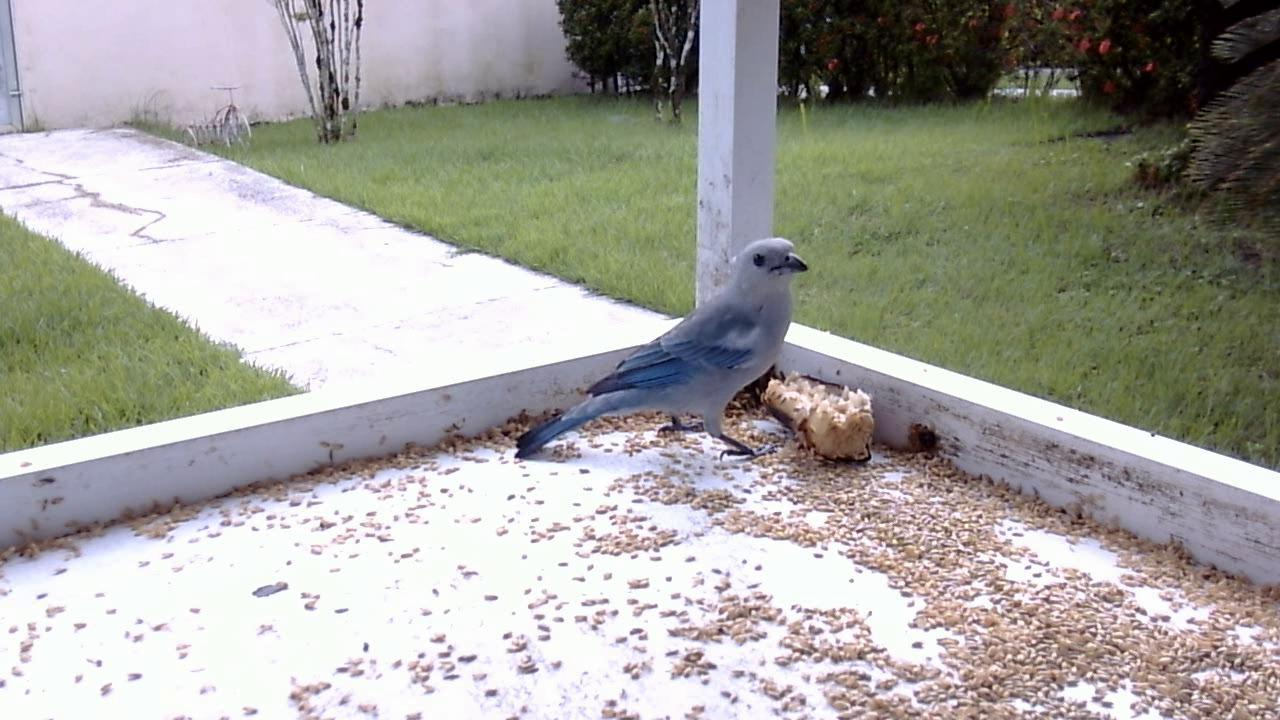sanhaco_da_amazonia: (509, 239, 818, 466)
